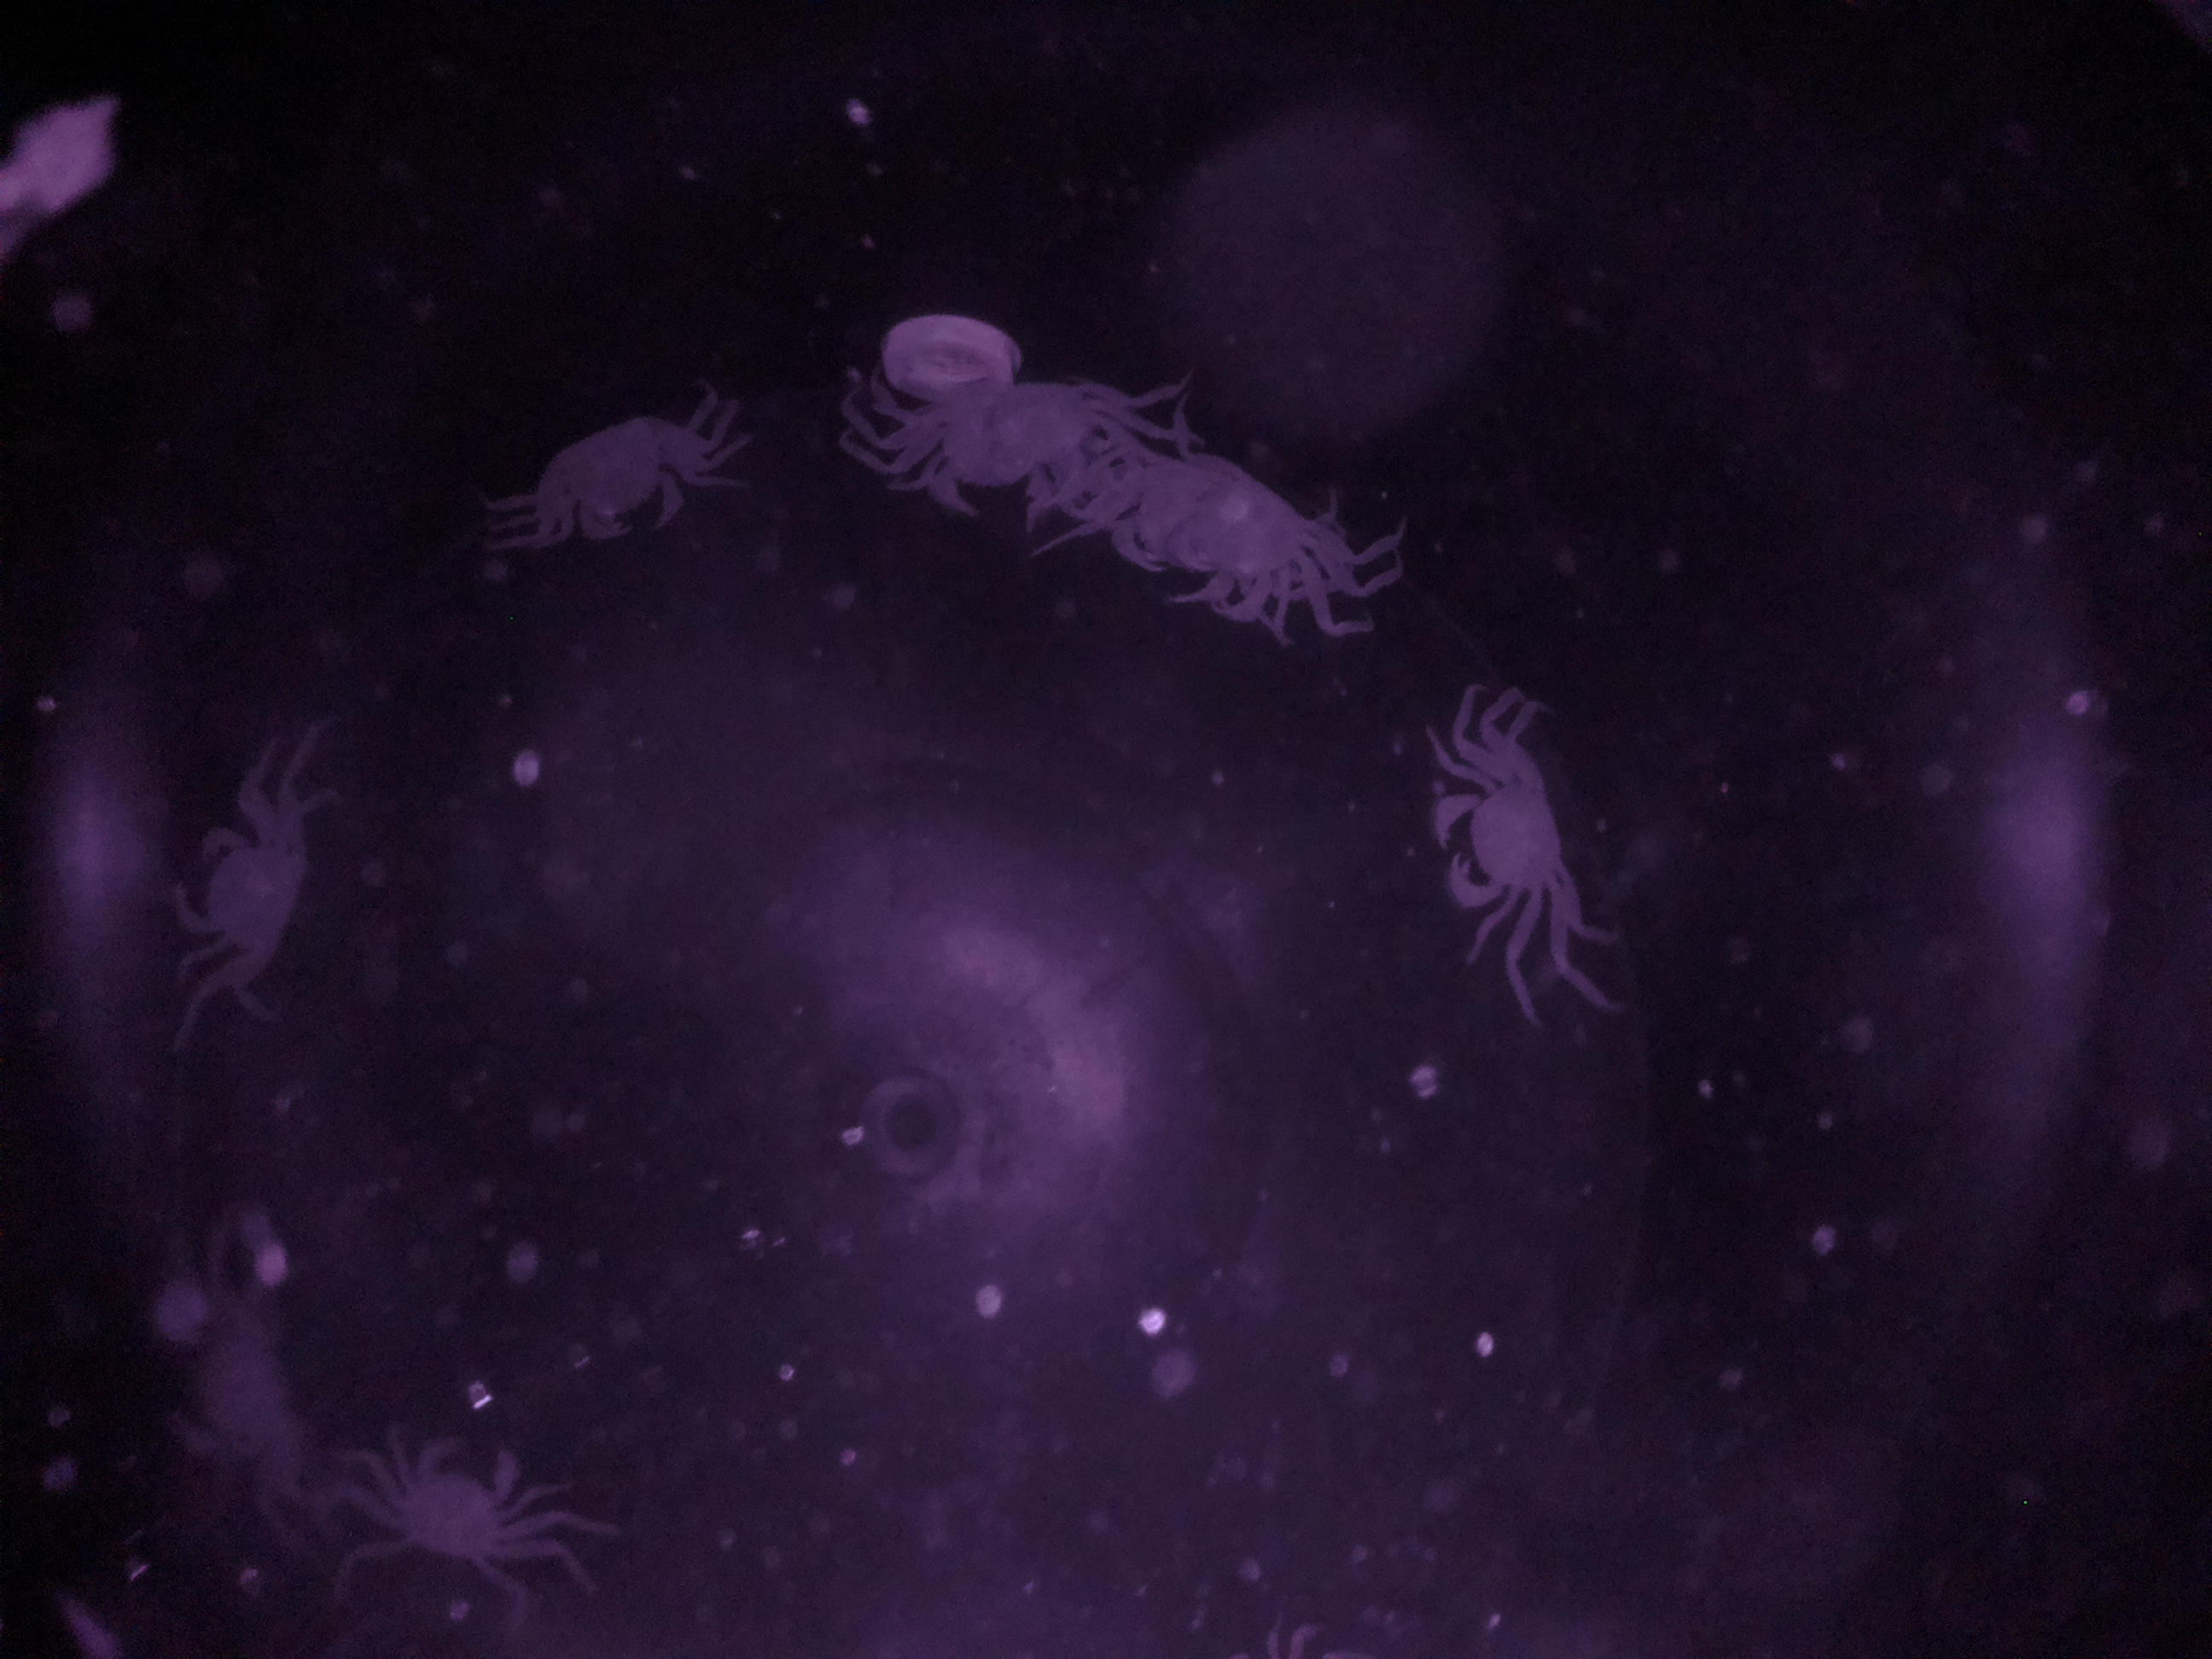Crab: (1423, 714, 1581, 971), (519, 399, 723, 556)
